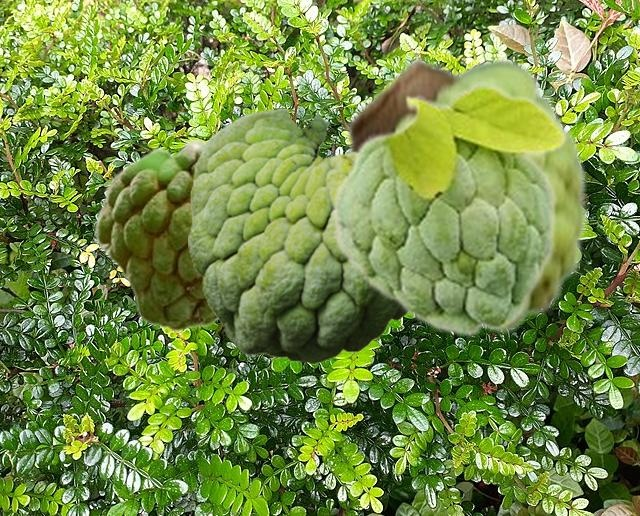atis: (340, 54, 589, 335), (329, 81, 568, 337), (188, 107, 406, 363), (92, 137, 219, 331)
